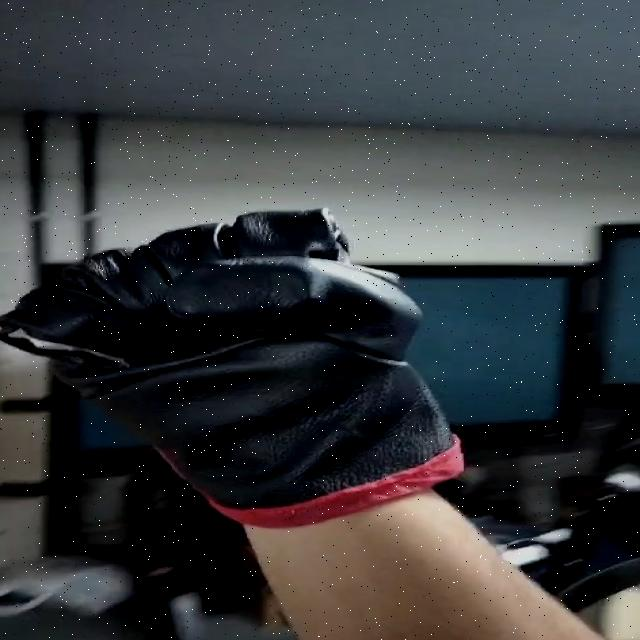Gloves: (0, 199, 479, 520)
